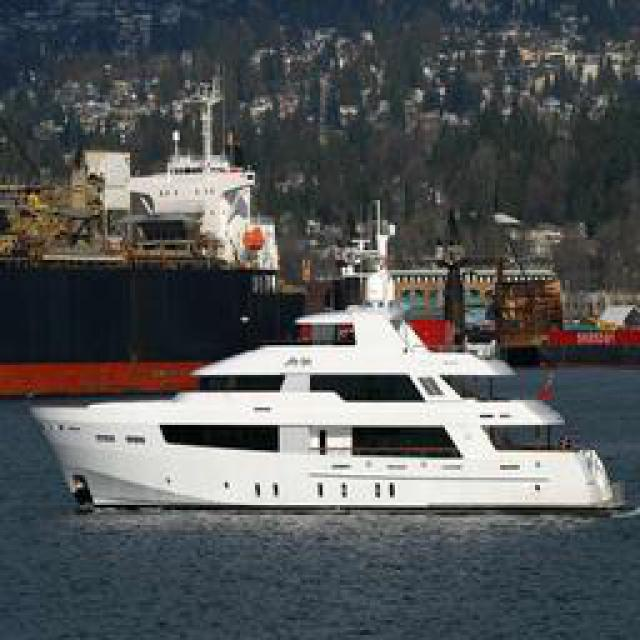Ship: (17, 315, 615, 520)
